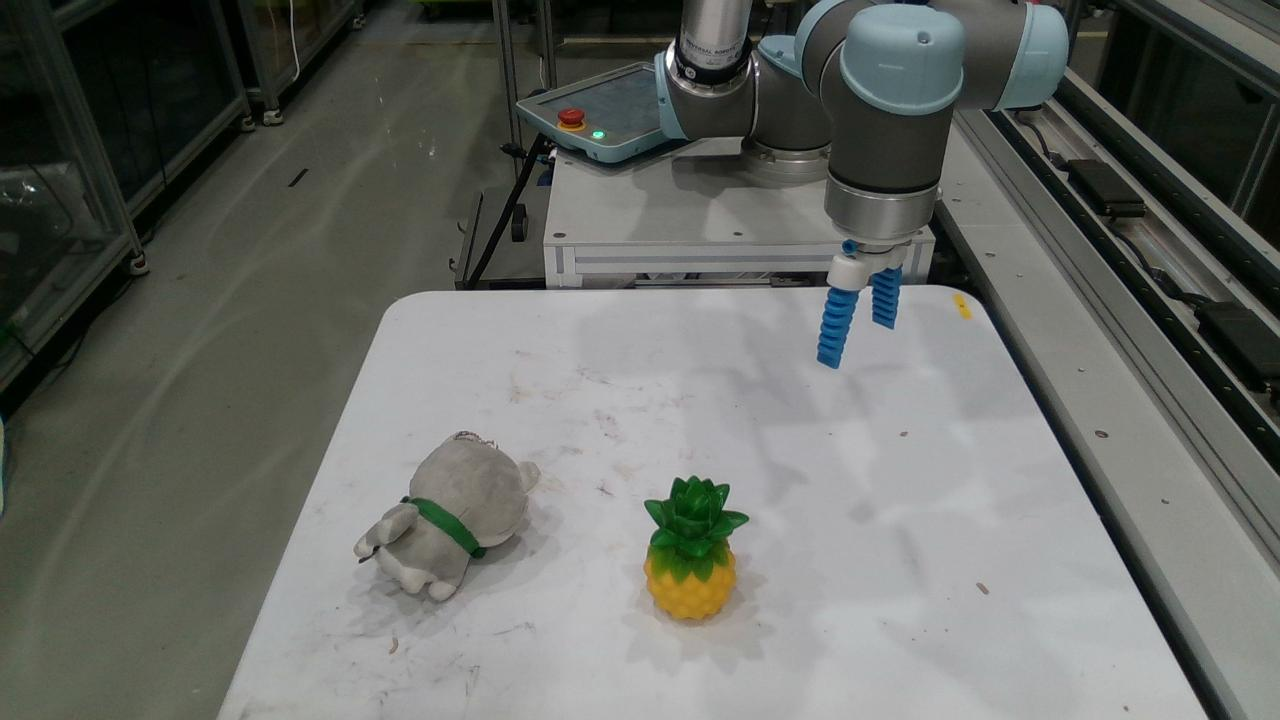UR5: (656, 0, 1062, 288)
gripper_left: (818, 288, 854, 368)
gripper_right: (874, 268, 900, 327)
target: (356, 432, 536, 601), (648, 477, 746, 619)
